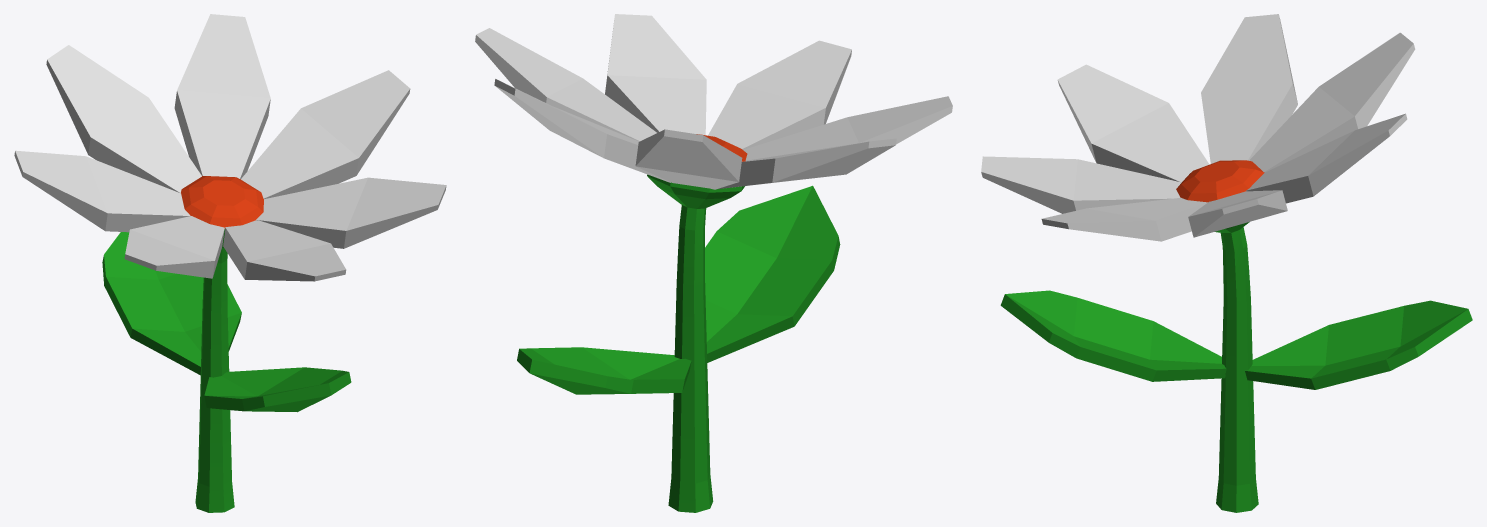
The model's file is flower.fbx.
3 views of the same model, side by side, from view 1: azimuth 30°, elevation 25°; view 2: azimuth 150°, elevation 25°; view 3: azimuth 270°, elevation 25° (orthographic). The views are drawn at different scales.
Parts seen in each view (by area): view 1: Cube.010; view 2: Cube.010; view 3: Cube.010.
Part boxes in pixels (x1=…): Cube.010: x1=14, y1=14, x2=446, y2=512; Cube.010: x1=475, y1=14, x2=952, y2=512; Cube.010: x1=981, y1=14, x2=1472, y2=512.
Size of the model in its own units: 10.9 by 11.43 by 11.86.
